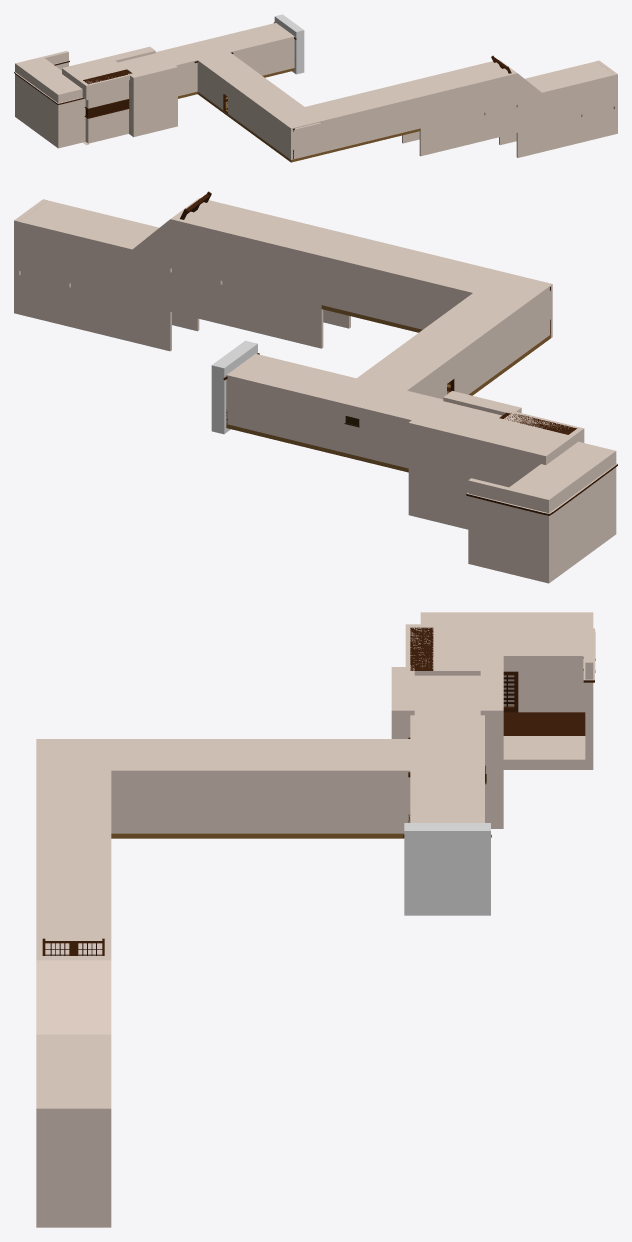
Rendered from hallway.fbx.
3 views of the same model, one above another, from view 1: azimuth 30°, elevation 25°; view 2: azimuth 150°, elevation 25°; view 3: azimuth 270°, elevation 25° (orthographic). The views are drawn at different scales.
Parts seen in each view (by area): view 1: Fake_Stairs_Hallway, Fakewall, Walls.012, Walls.016, Walls.014, Walls.018, Walls.013, Walls.017, Walls.009, Walls.006, Walls.011, Walls.010 (+30 smaller); view 2: Fake_Stairs_Hallway, Walls.016, Walls.012, Walls.013, Walls.018, Walls.014, Walls.017, Walls.011, Walls.010, Walls.004, Walls.006, Walls.005 (+29 smaller); view 3: Fake_Stairs_Hallway, Walls.020, Fake_door, Top.015, Walls.001, Loop_Walls, Walls.007, Walls, Top.001, Top, Loop_Top, Top.008 (+16 smaller).
Boxes of the visible parts, x1=… form: Fake_Stairs_Hallway: x1=14, y1=46, x2=155, y2=148; Fakewall: x1=128, y1=63, x2=177, y2=137; Walls.012: x1=402, y1=91, x2=452, y2=156; Walls.016: x1=499, y1=93, x2=549, y2=157; Walls.014: x1=484, y1=75, x2=517, y2=140; Walls.018: x1=581, y1=77, x2=614, y2=142; Walls.013: x1=453, y1=83, x2=485, y2=148; Walls.017: x1=550, y1=85, x2=582, y2=149; Walls.009: x1=323, y1=114, x2=355, y2=151; Walls.006: x1=262, y1=38, x2=294, y2=75; Walls.011: x1=388, y1=99, x2=420, y2=136; Walls.010: x1=356, y1=107, x2=388, y2=143; Fake_Stairs_Hallway: x1=408, y1=411, x2=617, y2=583; Walls.016: x1=119, y1=249, x2=199, y2=351; Walls.012: x1=271, y1=247, x2=350, y2=348; Walls.013: x1=220, y1=234, x2=271, y2=336; Walls.018: x1=19, y1=225, x2=70, y2=326; Walls.014: x1=170, y1=222, x2=220, y2=323; Walls.017: x1=69, y1=237, x2=119, y2=338; Walls.011: x1=321, y1=259, x2=372, y2=317; Walls.010: x1=372, y1=271, x2=422, y2=329; Walls.004: x1=277, y1=390, x2=327, y2=448; Walls.006: x1=226, y1=378, x2=276, y2=436; Walls.005: x1=327, y1=402, x2=377, y2=460; Fake_Stairs_Hallway: x1=405, y1=612, x2=595, y2=828; Walls.020: x1=36, y1=1105, x2=111, y2=1227; Fake_door: x1=404, y1=823, x2=490, y2=915; Top.015: x1=36, y1=960, x2=111, y2=1042; Walls.001: x1=260, y1=774, x2=335, y2=833; Loop_Walls: x1=186, y1=774, x2=260, y2=833; Walls.007: x1=111, y1=774, x2=185, y2=833; Walls: x1=335, y1=774, x2=410, y2=833; Top.001: x1=260, y1=739, x2=335, y2=774; Top: x1=335, y1=739, x2=410, y2=774; Loop_Top: x1=186, y1=739, x2=260, y2=774; Top.008: x1=111, y1=739, x2=185, y2=774.
Size of the model in its own units: 57.41 by 10.86 by 29.91.
